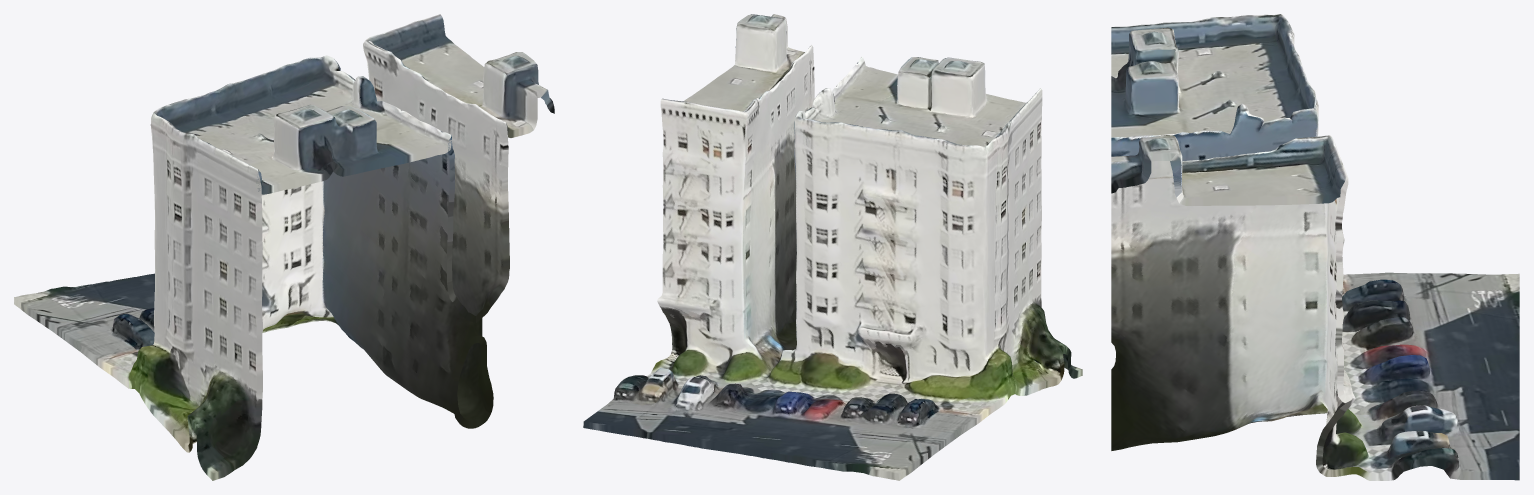
File: z20-167720-405198-h0-yup-uvflip-v3-world.glb
The picture shows the model from 3 angles, left to right: view 1: azimuth 30°, elevation 25°; view 2: azimuth 150°, elevation 25°; view 3: azimuth 270°, elevation 25°; orthographic projection. The views are drawn at different scales.
Size of the model in its own units: 30.2 by 28.64 by 30.32.
1 material, 1 textured.
